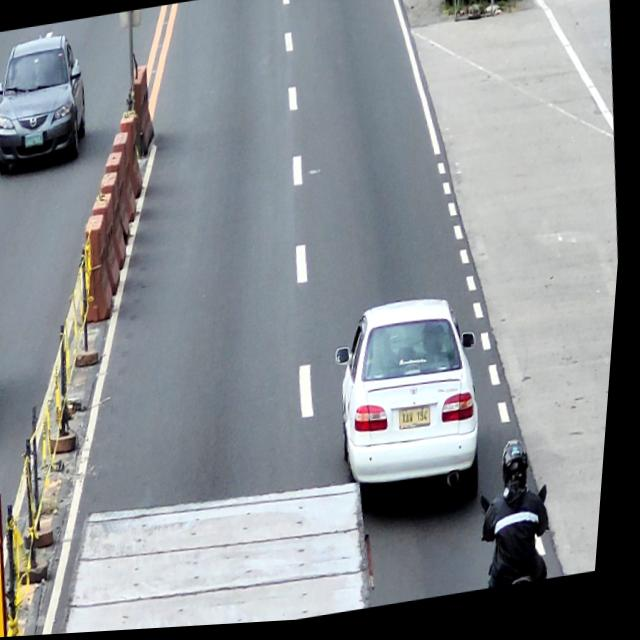Car: (326, 293, 503, 532), (0, 29, 96, 176)
License-Plate: (404, 409, 438, 435), (25, 131, 46, 147)
